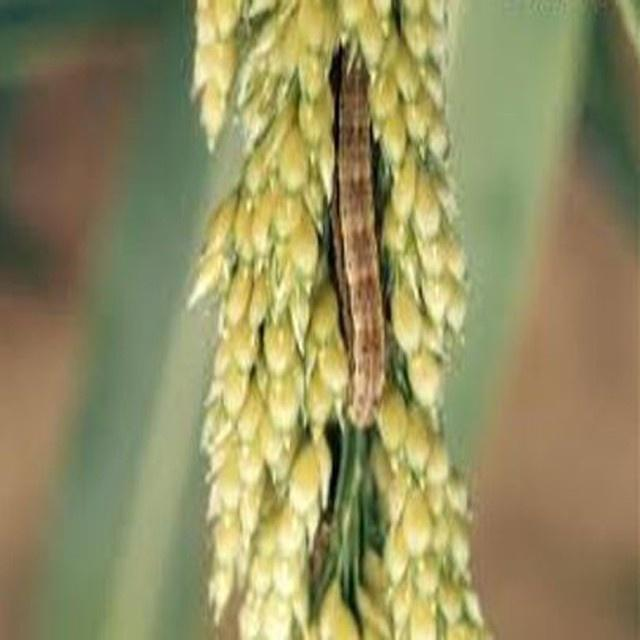gusano_cogollero: (334, 55, 392, 415)
